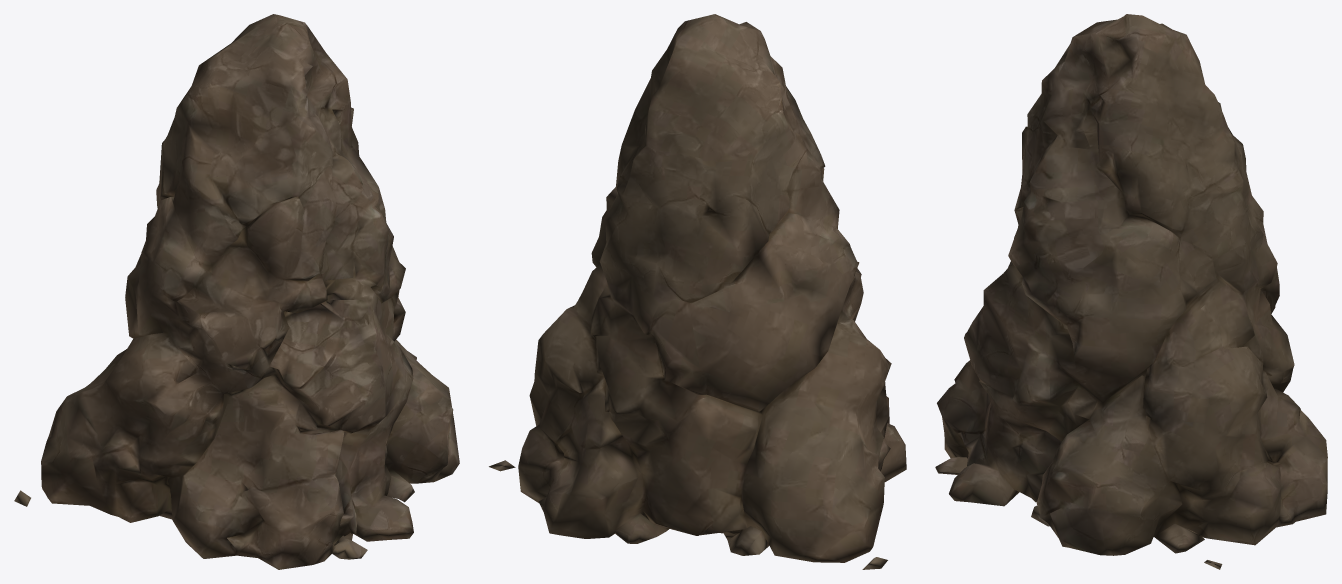
The model's file is rock_C-vZyws0Hr.glb.
3 renders of one model, left to right at view 1: azimuth 30°, elevation 25°; view 2: azimuth 150°, elevation 25°; view 3: azimuth 270°, elevation 25°, orthographic.
Visible parts, largest first — view 1: rock_C; view 2: rock_C; view 3: rock_C.
Boxes of the visible parts, box(x1,y1,x2,y2) form: rock_C: box(14, 14, 459, 569); rock_C: box(489, 14, 906, 569); rock_C: box(935, 14, 1327, 569).
Size of the model in its own units: 1.62 by 1.8 by 1.37.
Materials: 1 (1 with a texture image).
